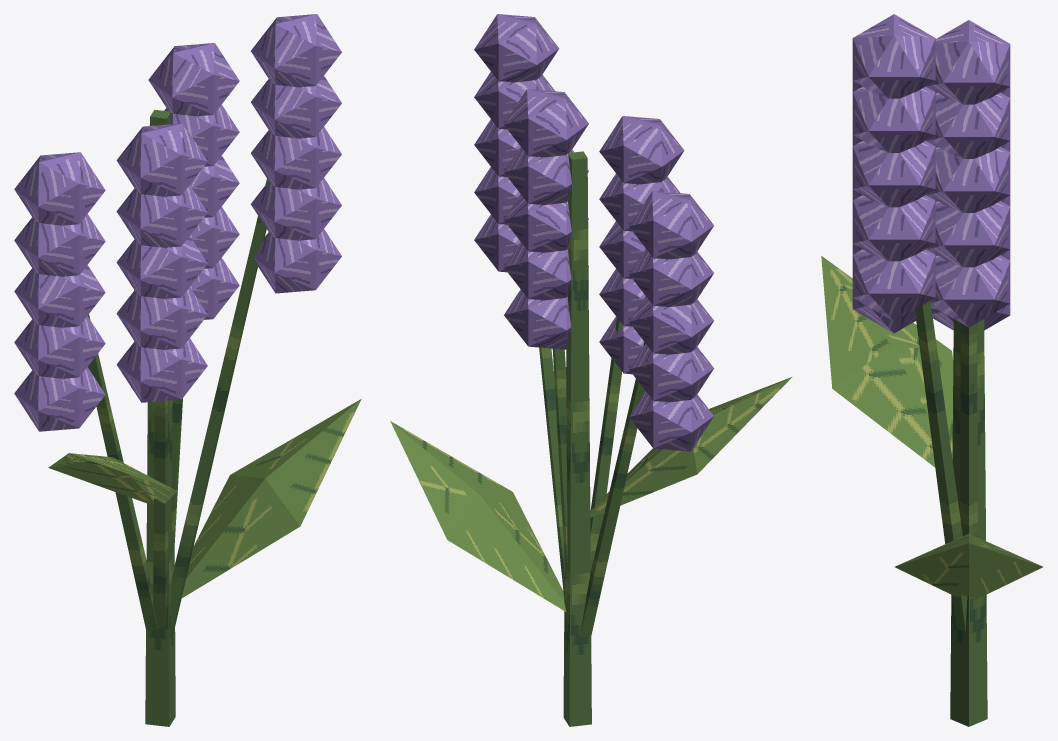
Rendered from flor-lavanda-v01.gltf.
3 views of the same model, side by side, from view 1: azimuth 30°, elevation 25°; view 2: azimuth 150°, elevation 25°; view 3: azimuth 270°, elevation 25° (orthographic). The views are drawn at different scales.
Visible parts, largest first — view 1: flores, hastes, folhas; view 2: flores, hastes, folhas; view 3: flores, folhas, hastes.
Part boxes in pixels (x1,y1,x2,y2): flores: (14,14,341,431); hastes: (88,109,269,726); folhas: (48,399,361,598); flores: (474,14,713,451); hastes: (539,151,645,726); folhas: (390,377,791,611); flores: (852,14,1010,333); folhas: (821,256,1042,599); hastes: (915,301,987,726).
Bounding box in the file's own units: 0.5944 × 1.1 × 0.2975.
1 material, 1 textured.
